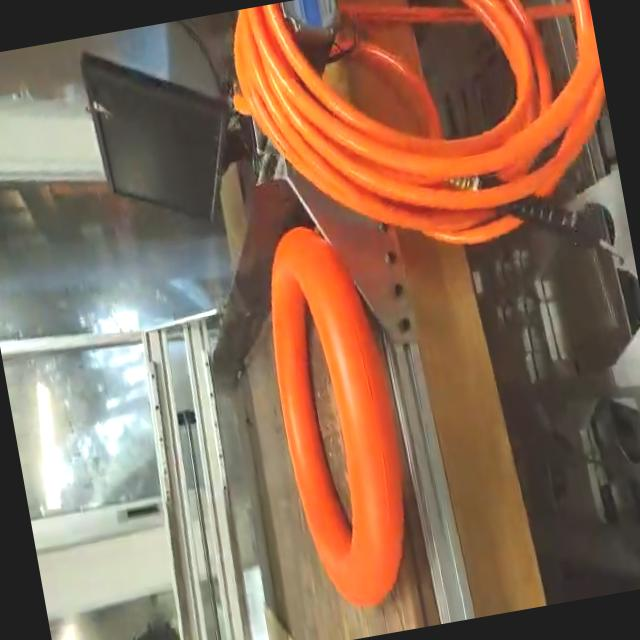note: (246, 212, 424, 620)
